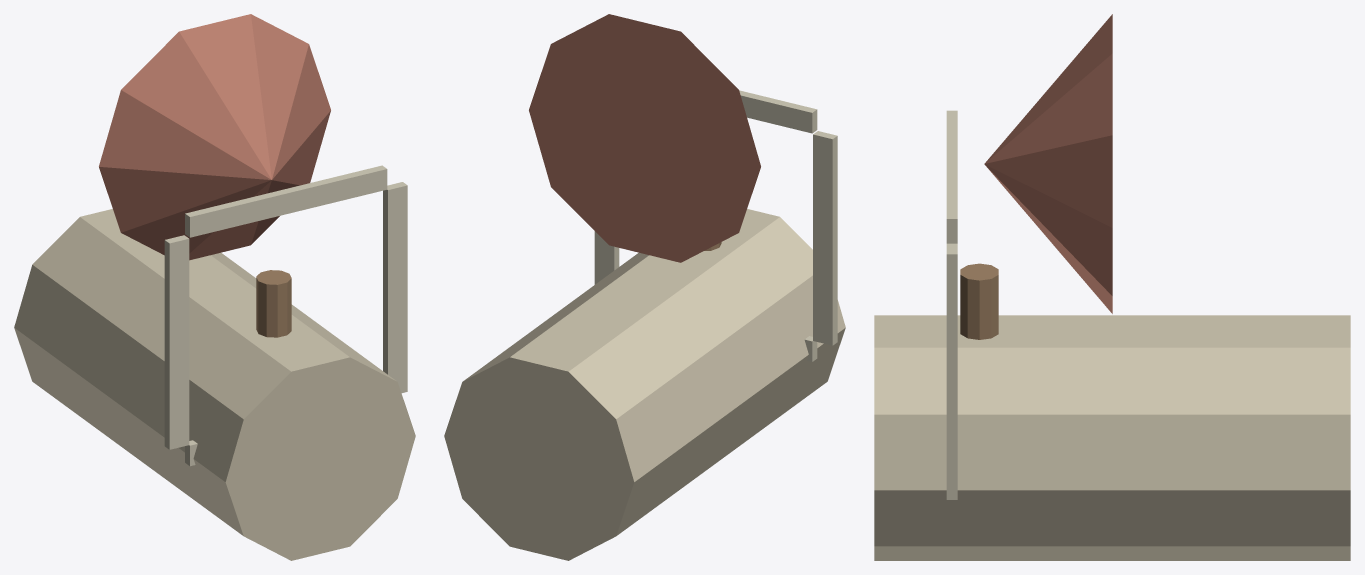
File: windmill.glb
3 renders of one model, left to right at view 1: azimuth 30°, elevation 25°; view 2: azimuth 150°, elevation 25°; view 3: azimuth 270°, elevation 25°, orthographic. The views are drawn at different scales.
Visible parts, largest first — view 1: windmill_0, windmill_1, windmill_5, windmill_4, windmill_3, windmill_2; view 2: windmill_0, windmill_1, windmill_5, windmill_4, windmill_3; view 3: windmill_0, windmill_1, windmill_3, windmill_2, windmill_4.
Boxes of the visible parts, bbox=[...] form: windmill_0: bbox=[14, 209, 415, 560]; windmill_1: bbox=[99, 14, 330, 260]; windmill_5: bbox=[164, 235, 189, 449]; windmill_4: bbox=[185, 165, 387, 237]; windmill_3: bbox=[383, 182, 407, 393]; windmill_2: bbox=[256, 270, 291, 337]; windmill_0: bbox=[444, 209, 845, 560]; windmill_1: bbox=[529, 14, 760, 262]; windmill_5: bbox=[813, 131, 837, 345]; windmill_4: bbox=[739, 90, 817, 133]; windmill_3: bbox=[594, 231, 619, 284]; windmill_0: bbox=[874, 315, 1350, 560]; windmill_1: bbox=[984, 14, 1112, 313]; windmill_3: bbox=[946, 243, 957, 486]; windmill_2: bbox=[960, 263, 998, 339]; windmill_4: bbox=[946, 110, 957, 242].
Bounding box in the file's own units: 3.38 × 6.15 × 5.2.
